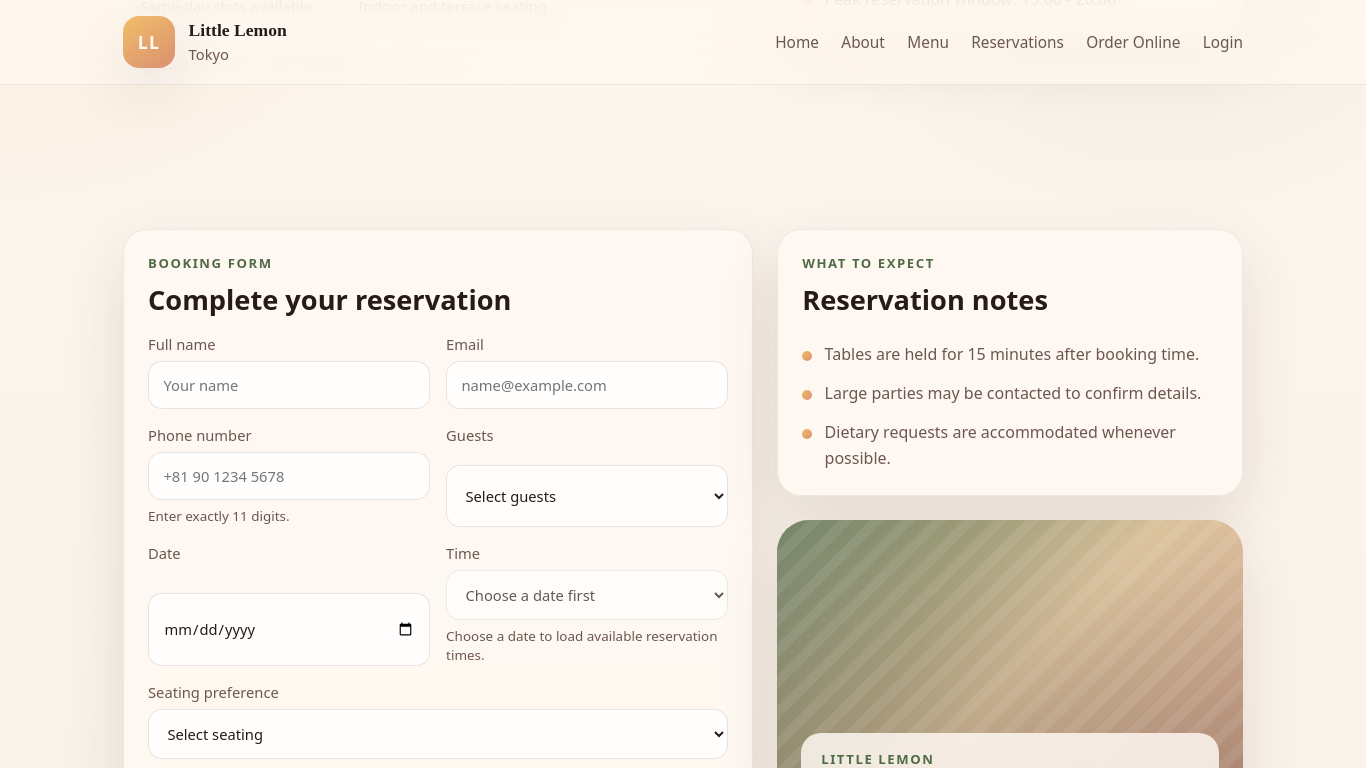
Test: shows an error and does not navigate when submitAPI returns false
The image size is (1366, 768).
(page scrolled)
Type "Alex Chen" into the field labelled "Full name". click: point(289, 385)
box: [148, 361, 430, 409]
Type "alex@example.com" into the field labelled "Email". click: point(587, 385)
box: [446, 361, 728, 409]
Type "09012345678" into the field labelled "Phone number Enter exactly 11 digits.". click: point(289, 476)
box: [148, 452, 430, 500]
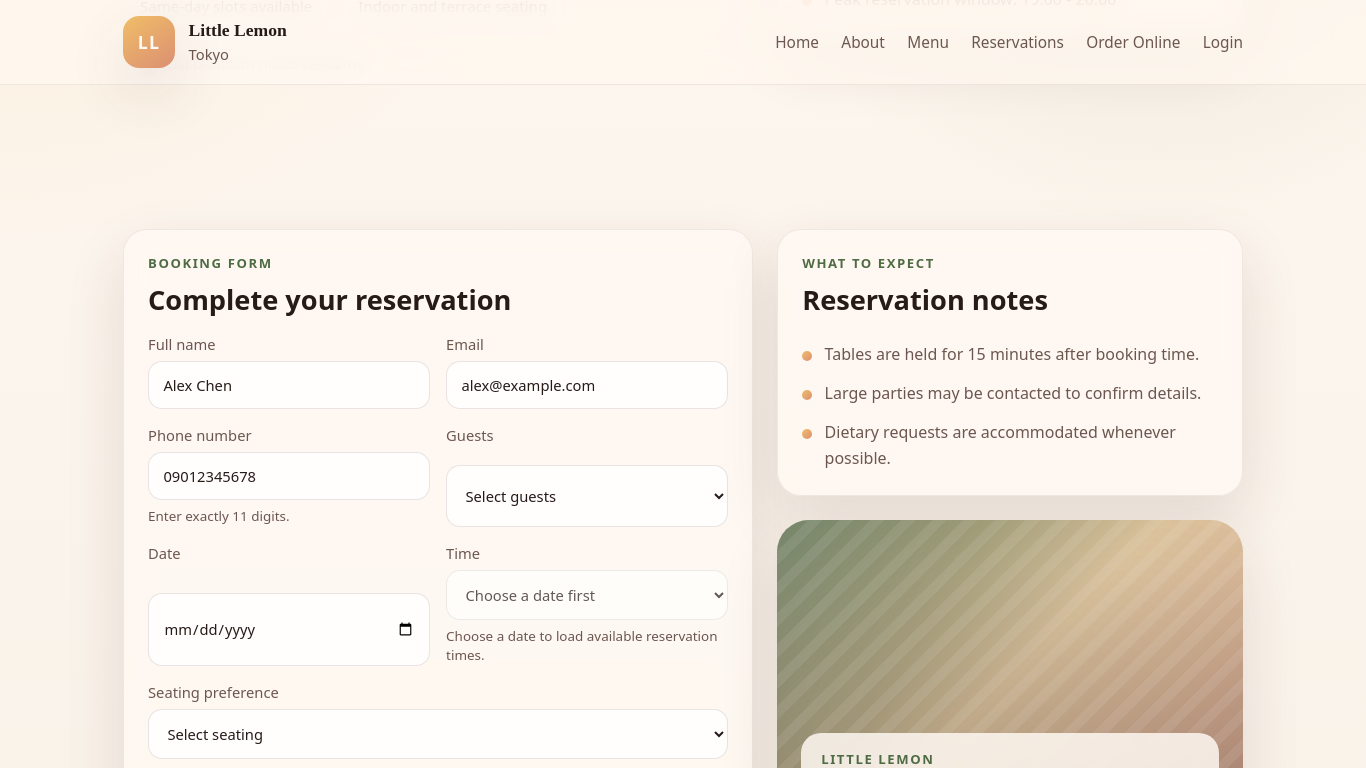
Select "2 guests" in the dropdown labelled "Guests". click: point(587, 496)
box: [446, 465, 728, 527]
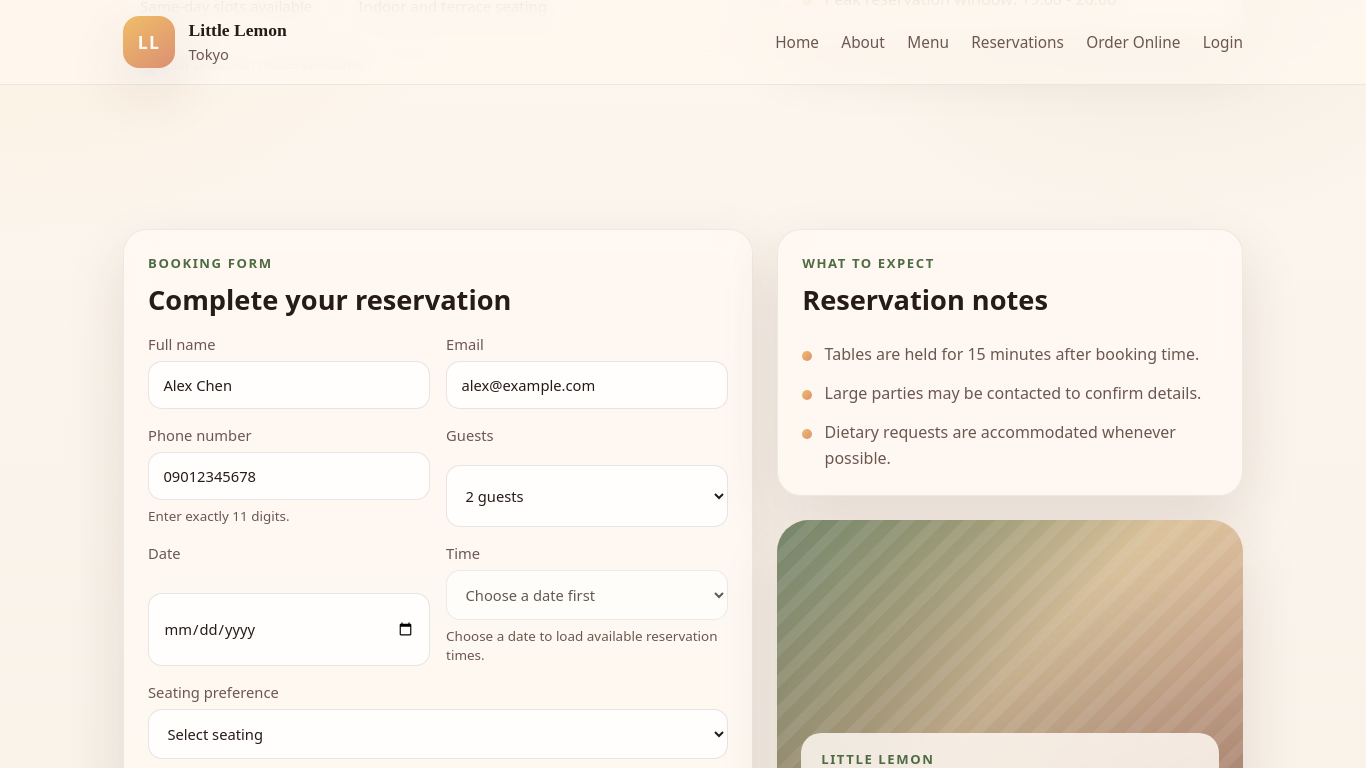
Select "Indoor dining room" in the dropdown labelled "Seating preference". click: point(438, 734)
box: [148, 709, 728, 759]
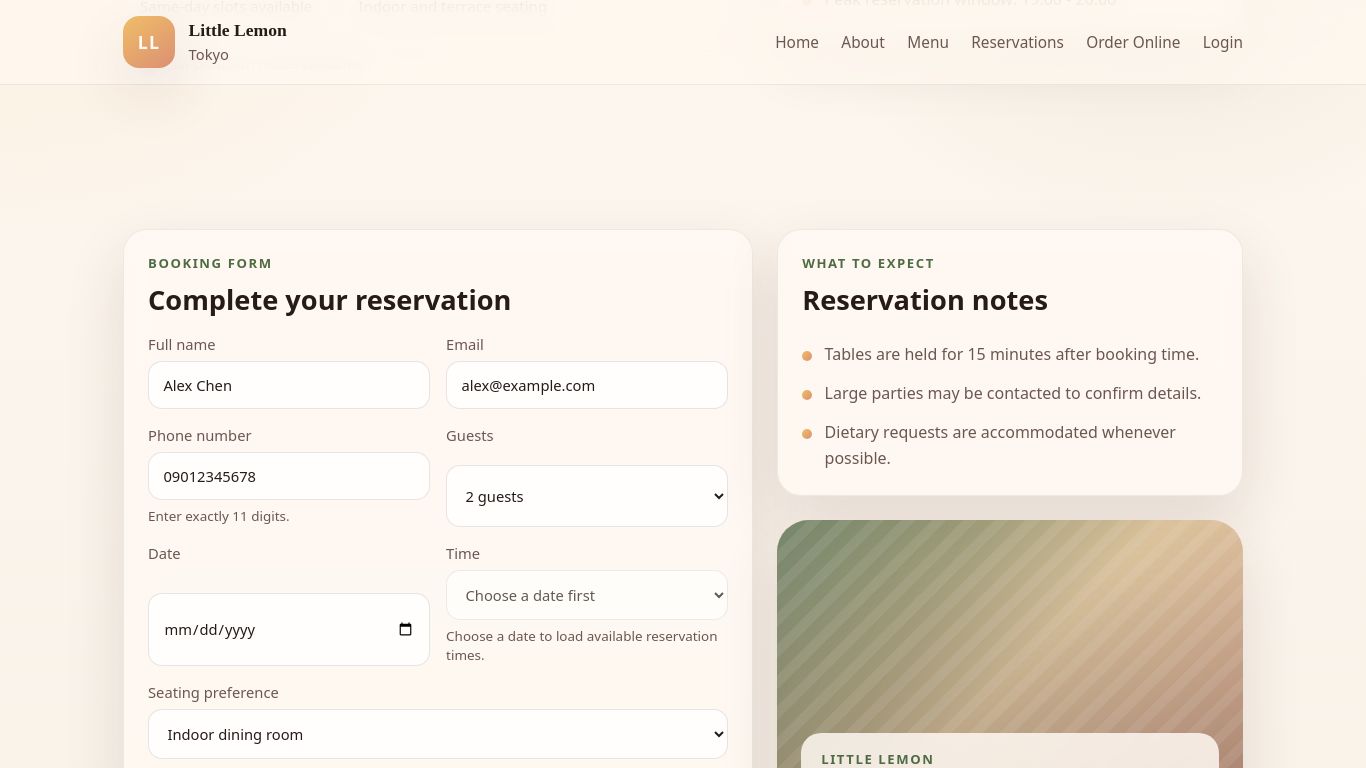
Type "2026-03-21" into the date field with id "date". click: point(289, 629)
box: [148, 593, 430, 666]
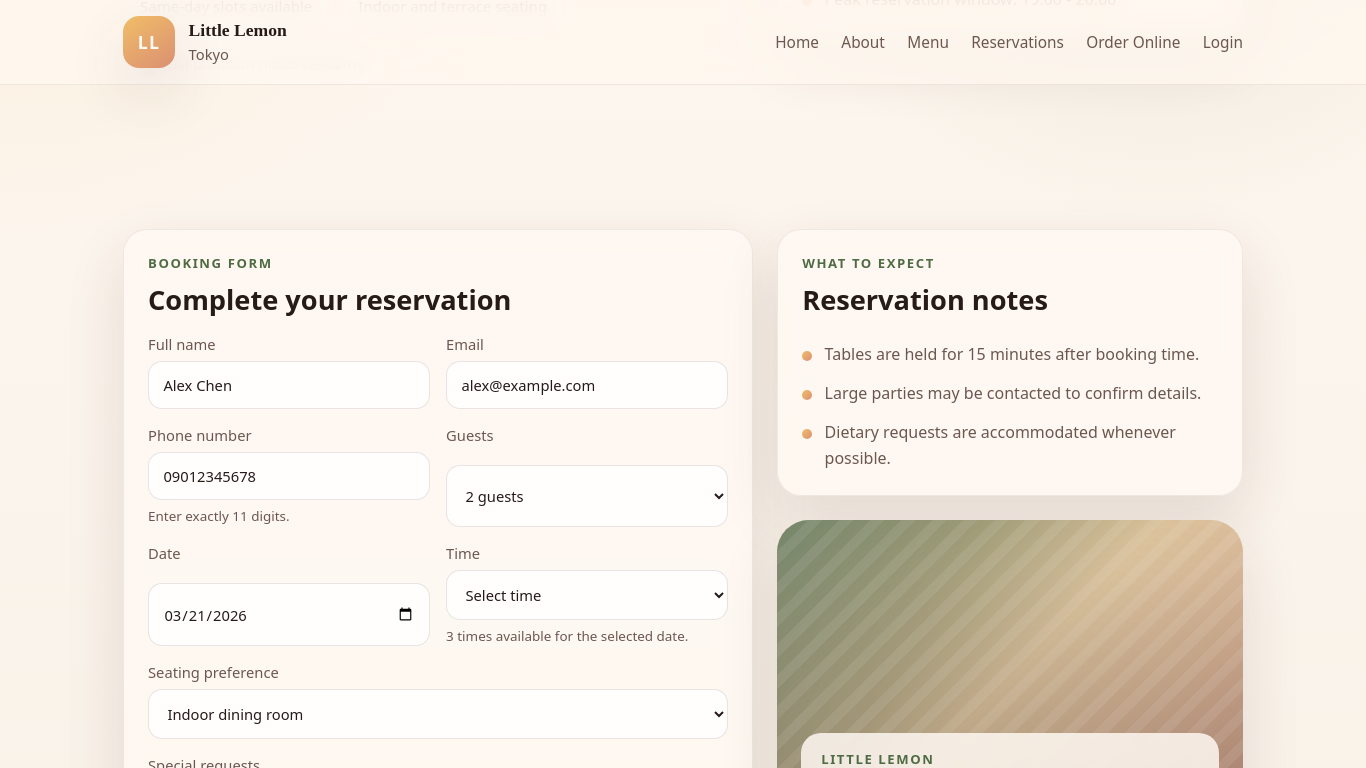
Select "19:00" in the dropdown with id "time". click: point(587, 595)
box: [446, 570, 728, 620]
(page scrolled)
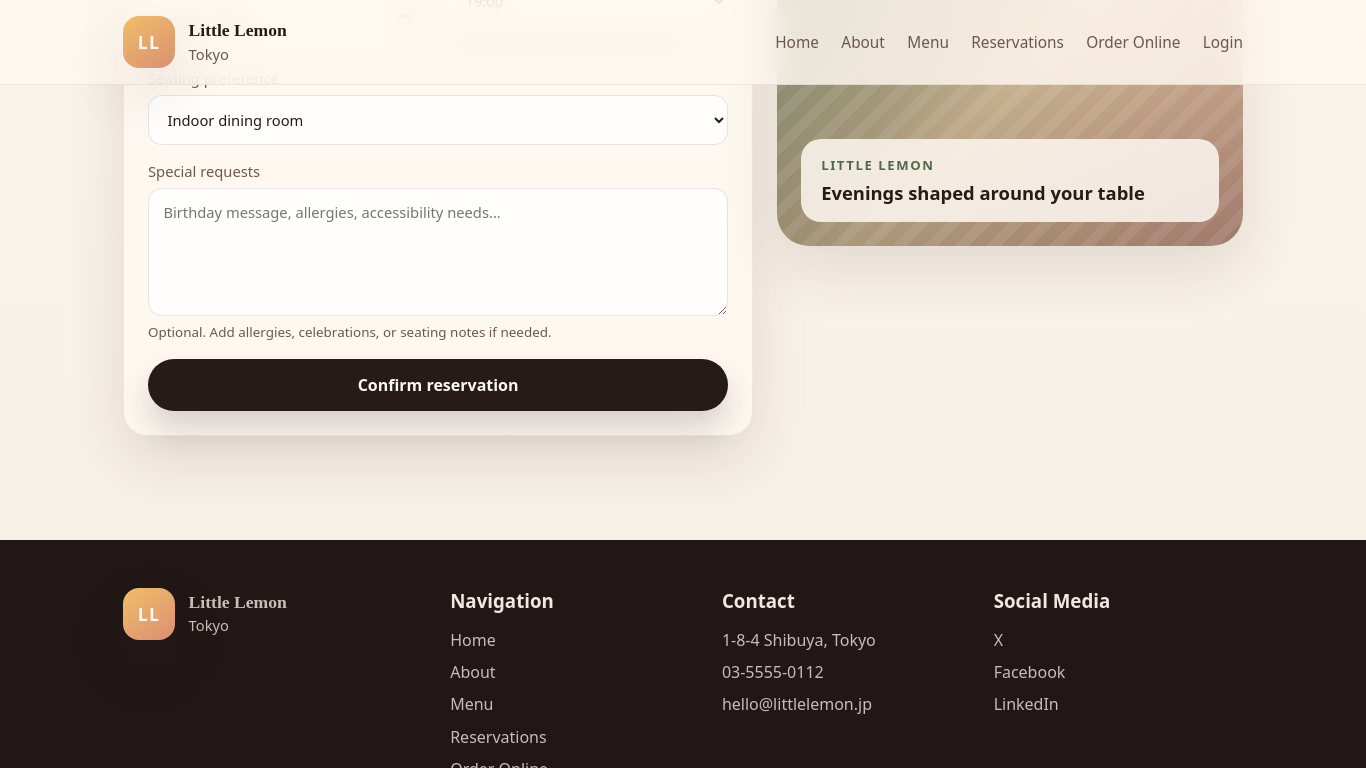
Click the button "Confirm reservation". click: point(438, 384)
box: [148, 358, 728, 410]
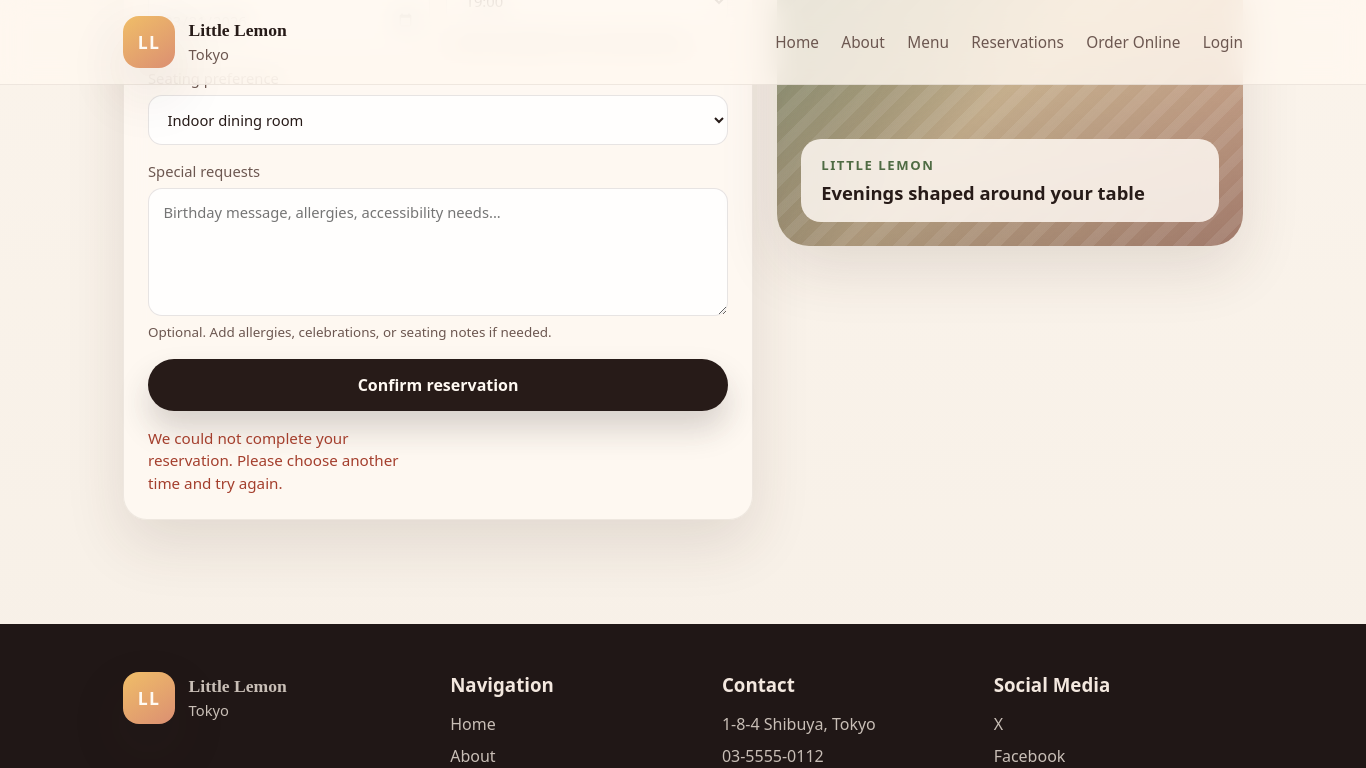
Result: the text "we could not complete your reservation. please choose another time and try again." is shown at [148, 428, 398, 493]
